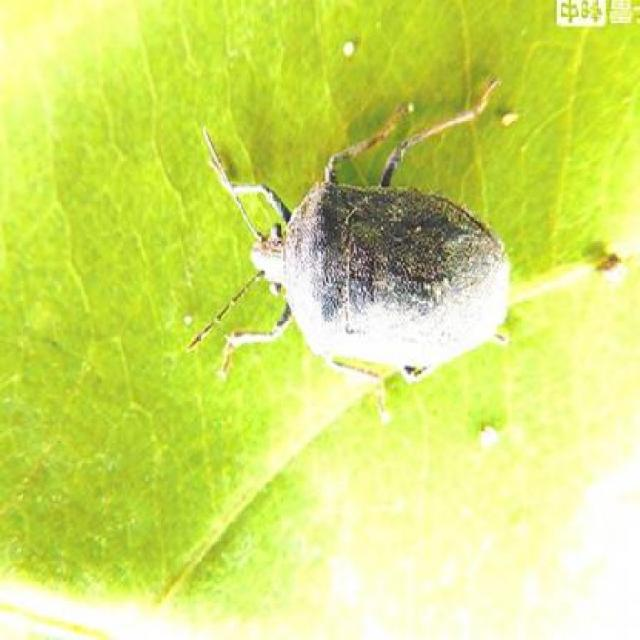rice-bug: (214, 85, 523, 397)
